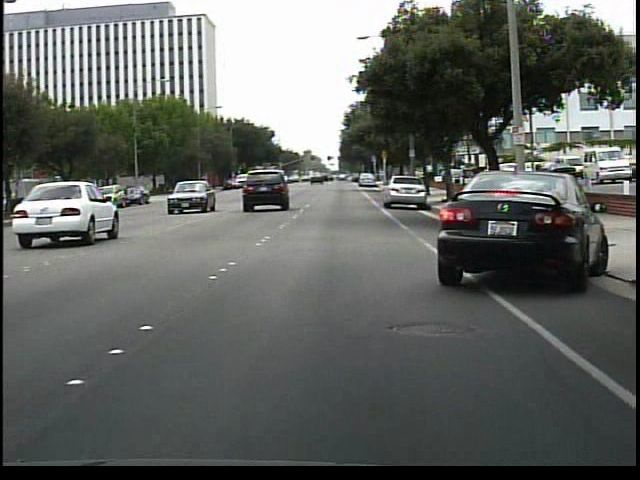person: (512, 162, 532, 212), (527, 160, 548, 195)
